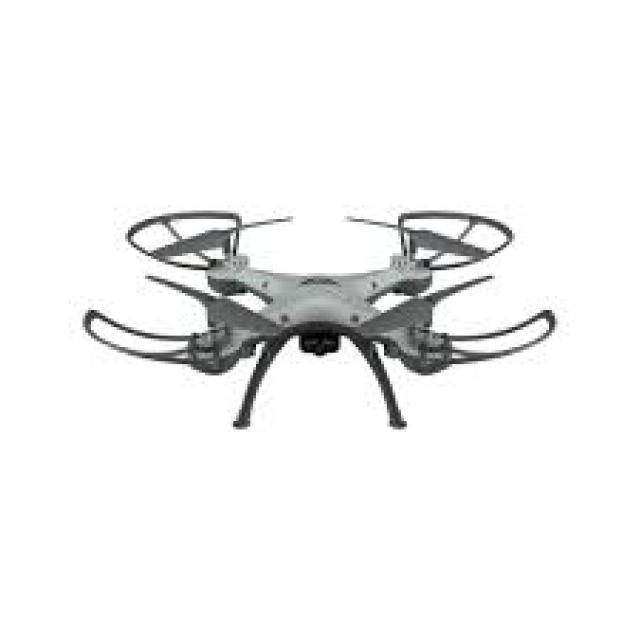drone: (73, 182, 571, 464)
